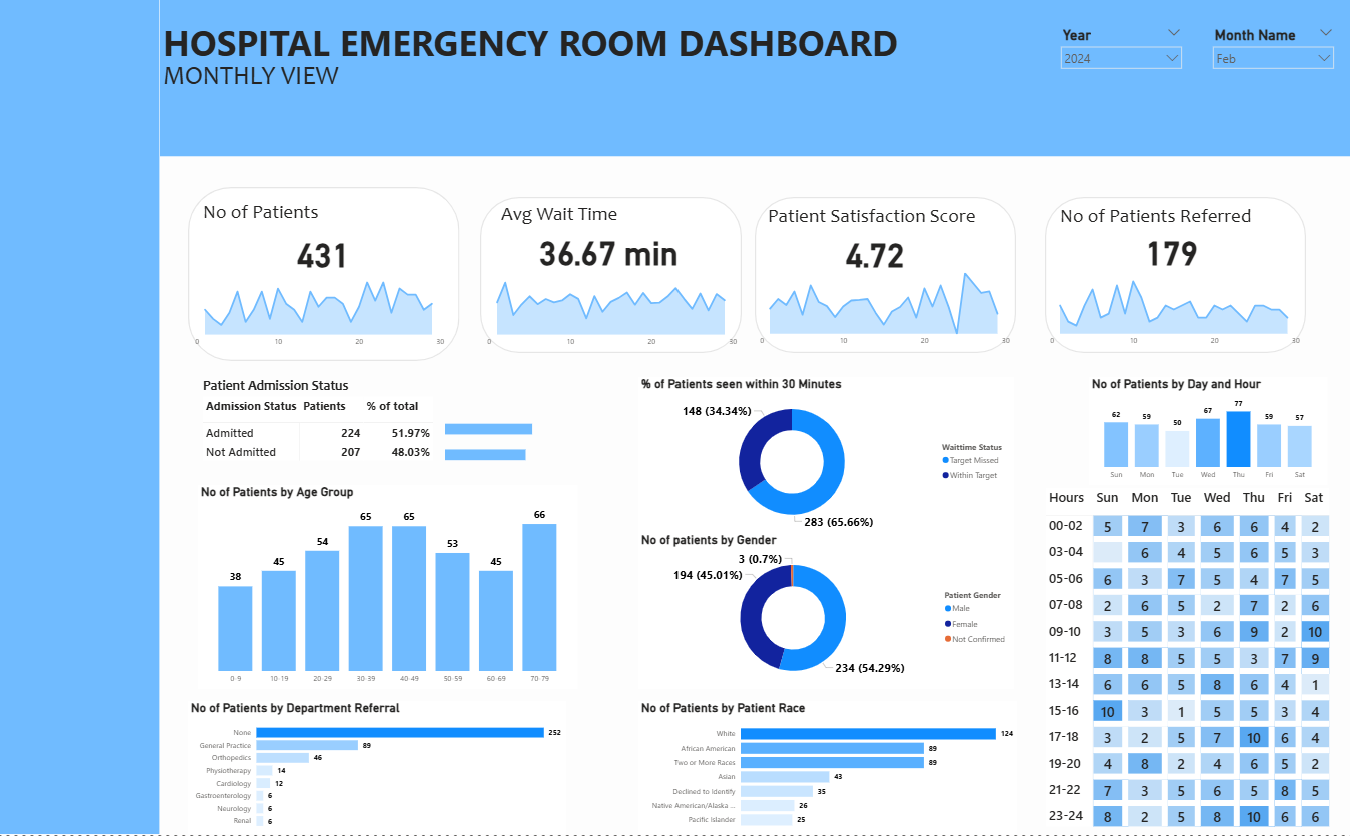

Layout of this report page (visuals, bound fields, positions):
{"tool":"powerbi","page":{"name":"Page 1","canvas":[2300,1400],"ordinal":0},"visuals":[{"type":"shape","box":[1762.5,335,435,260],"z":1000},{"type":"shape","box":[822.5,335,435,260],"z":2000},{"type":"shape","box":[1280,335,435,260],"z":3000},{"type":"shape","box":[335,320,452.5,290],"z":4000},{"type":"shape","box":[10.2,0,279,1398.4],"z":5000},{"type":"shape","box":[289.2,0,2010.8,268.8],"z":6000},{"type":"textbox","box":[289.2,34,1303.1,102.1],"z":7000},{"type":"textbox","box":[289.2,102.1,319.8,71.4],"z":8000},{"type":"card","fields":{"Values":["Hospital ER_Data.No of Patients"]},"box":[458,378,210,102],"z":9000},{"type":"slicer","fields":{"Values":["Date Table.Year"]},"box":[1714,46,122,78],"z":10000},{"type":"slicer","fields":{"Values":["Date Table.Month Name"]},"box":[1868,46,222,78],"z":11000},{"type":"textbox","box":[357.5,335,320,70],"z":12000},{"type":"areaChart","fields":{"Category":["Date Table.Date.Variation.Date Hierarchy.Day"],"Y":["Hospital ER_Data.No of Patients"]},"box":[335,450,435,145],"z":13000},{"type":"areaChart","fields":{"Category":["Date Table.Date.Variation.Date Hierarchy.Day"],"Y":["Avg(Hospital ER_Data.Patient Waittime)"]},"box":[822.5,450,435,145],"z":14000},{"type":"card","fields":{"Values":["Hospital ER_Data.Avg Wait Time"]},"box":[822,374,428,100],"z":15000},{"type":"textbox","box":[854,340,320,70],"z":16000},{"type":"textbox","box":[1298,344,396,68],"z":17000},{"type":"card","fields":{"Values":["Hospital ER_Data.Satisfaction Score"]},"box":[1268,378,426,100],"z":18000},{"type":"areaChart","fields":{"Category":["Date Table.Date.Variation.Date Hierarchy.Day"],"Y":["Hospital ER_Data.Satisfaction Score"]},"box":[1278.1,449.6,436,144.4],"z":19000},{"type":"textbox","box":[1782,344,396,68],"z":20000},{"type":"card","fields":{"Values":["Hospital ER_Data.No of Patients Referred"]},"box":[1760,372,428,102],"z":21000},{"type":"pivotTable","fields":{"Rows":["Hospital ER_Data.Waittime Interval"],"Columns":["Date Table.Day"],"Values":["Hospital ER_Data.No of Patients"]},"box":[1760,817.5,542.5,582.5],"z":22000},{"type":"areaChart","fields":{"Category":["Date Table.Date.Variation.Date Hierarchy.Day"],"Y":["Hospital ER_Data.No of Patients Referred"]},"box":[1760.4,449.6,436,144.4],"z":23000},{"type":"pivotTable","title":"Patient Admission Status","fields":{"Rows":["Hospital ER_Data.Admission Status"],"Values":["Hospital ER_Data.No of Patients1","Hospital ER_Data.No of Patients"]},"box":[357.5,637.5,655,165],"z":24000},{"type":"barChart","fields":{"Category":["Hospital ER_Data.Admission Status"],"Y":["Hospital ER_Data.No of Patients"]},"box":[760.3,678.4,204.4,125.4],"z":24001},{"type":"clusteredColumnChart","fields":{"Category":["Hospital ER_Data.Age Group"],"Y":["Hospital ER_Data.No of Patients"]},"box":[352.5,817.5,632.5,340],"z":24003},{"type":"clusteredBarChart","fields":{"Category":["Hospital ER_Data.Department Referral"],"Y":["Hospital ER_Data.No of Patients"]},"box":[336,1176,630,222],"z":24004},{"type":"donutChart","title":"% of Patients seen within 30 Minutes","fields":{"Category":["Hospital ER_Data.Waittime Status"],"Y":["Hospital ER_Data.No of Patients"]},"box":[1087.5,637.5,625,260],"z":24005},{"type":"donutChart","title":"No of patients by Gender","fields":{"Y":["Hospital ER_Data.No of Patients"],"Category":["Hospital ER_Data.Patient Gender"]},"box":[1087.5,897.5,625,260],"z":24006},{"type":"clusteredBarChart","title":"No of Patients by Patient Race","fields":{"Y":["Hospital ER_Data.No of Patients"],"Category":["Hospital ER_Data.Patient Race"]},"box":[1087.5,1177.5,630,222.5],"z":24007},{"type":"columnChart","title":"No of Patients by Day and Hour","fields":{"Category":["Date Table.Day"],"Y":["Hospital ER_Data.No of Patients"]},"box":[1837.5,637.5,397.5,180],"z":24008}]}

Visuals, with their boxes in screenshot pixels (x1, y1, x2, y2), scaled from the page's 2300x1400 canvas onto the 1350x836 screenshot:
shape: Rect(1035, 200, 1290, 355)
shape: Rect(483, 200, 738, 355)
shape: Rect(751, 200, 1007, 355)
shape: Rect(197, 191, 462, 364)
shape: Rect(6, 0, 170, 835)
shape: Rect(170, 0, 1349, 161)
textbox: Rect(170, 20, 935, 81)
textbox: Rect(170, 61, 357, 104)
card - Hospital ER_Data.No of Patients: Rect(269, 226, 392, 287)
slicer - Date Table.Year: Rect(1006, 27, 1078, 74)
slicer - Date Table.Month Name: Rect(1096, 27, 1227, 74)
textbox: Rect(210, 200, 398, 242)
areaChart - Date Table.Date.Variation.Date Hierarchy.Day x Hospital ER_Data.No of Patients: Rect(197, 269, 452, 355)
areaChart - Date Table.Date.Variation.Date Hierarchy.Day x Avg(Hospital ER_Data.Patient Waittime): Rect(483, 269, 738, 355)
card - Hospital ER_Data.Avg Wait Time: Rect(482, 223, 734, 283)
textbox: Rect(501, 203, 689, 245)
textbox: Rect(762, 205, 994, 246)
card - Hospital ER_Data.Satisfaction Score: Rect(744, 226, 994, 285)
areaChart - Date Table.Date.Variation.Date Hierarchy.Day x Hospital ER_Data.Satisfaction Score: Rect(750, 268, 1006, 355)
textbox: Rect(1046, 205, 1278, 246)
card - Hospital ER_Data.No of Patients Referred: Rect(1033, 222, 1284, 283)
pivotTable - Hospital ER_Data.Waittime Interval x Date Table.Day: Rect(1033, 488, 1349, 835)
areaChart - Date Table.Date.Variation.Date Hierarchy.Day x Hospital ER_Data.No of Patients Referred: Rect(1033, 268, 1289, 355)
"Patient Admission Status" pivotTable: Rect(210, 381, 594, 479)
barChart - Hospital ER_Data.Admission Status x Hospital ER_Data.No of Patients: Rect(446, 405, 566, 480)
clusteredColumnChart - Hospital ER_Data.Age Group x Hospital ER_Data.No of Patients: Rect(207, 488, 578, 691)
clusteredBarChart - Hospital ER_Data.Department Referral x Hospital ER_Data.No of Patients: Rect(197, 702, 567, 835)
"% of Patients seen within 30 Minutes" donutChart: Rect(638, 381, 1005, 536)
"No of patients by Gender" donutChart: Rect(638, 536, 1005, 691)
"No of Patients by Patient Race" clusteredBarChart: Rect(638, 703, 1008, 835)
"No of Patients by Day and Hour" columnChart: Rect(1079, 381, 1312, 488)
